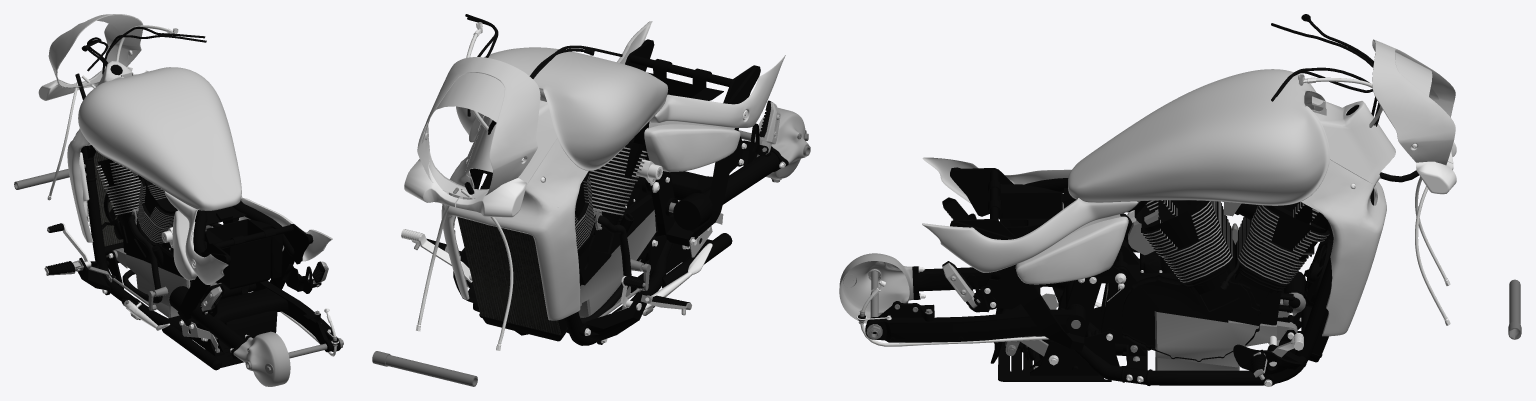
The model's file is stock_m109r.glb.
3 renders of one model, left to right at view 1: azimuth 30°, elevation 25°; view 2: azimuth 150°, elevation 25°; view 3: azimuth 270°, elevation 25°, orthographic. The views are drawn at different scales.
Parts seen in each view (by area): view 1: Tank, Frame, Engine, material.008, material.2995, material.050, material.2653, Radiator, material.012, Retopo_material.001, FrameCover_COLORMATCH, material.5147 (+8 smaller); view 2: Tank, Frame, Engine, Retopo_material.001, material.050, Radiator, material.008, material.2653, FrameCover_COLORMATCH, material.012, material.2020, material.023 (+6 smaller); view 3: Engine, Tank, Frame, Retopo_material.001, material.050, material.12456, material.2995, material.008, FrameCover_COLORMATCH, material.023, material.2653, material.012 (+6 smaller).
Part boxes in pixels (x1,y1,x2,y2): Tank: [78, 67, 241, 210]; Frame: [81, 65, 328, 370]; Engine: [96, 158, 232, 317]; material.008: [169, 286, 290, 386]; material.2995: [199, 280, 340, 351]; material.050: [48, 14, 142, 88]; material.2653: [44, 223, 168, 310]; Radiator: [74, 140, 123, 262]; material.012: [164, 191, 228, 284]; Retopo_material.001: [67, 128, 93, 242]; FrameCover_COLORMATCH: [172, 210, 284, 280]; material.5147: [225, 310, 277, 358]; Tank: [456, 47, 668, 170]; Frame: [469, 39, 780, 345]; Engine: [480, 136, 656, 335]; Retopo_material.001: [441, 115, 588, 320]; material.050: [417, 57, 540, 198]; Radiator: [457, 207, 567, 341]; material.008: [673, 108, 809, 230]; material.2653: [401, 229, 691, 344]; FrameCover_COLORMATCH: [644, 124, 740, 172]; material.012: [648, 55, 785, 129]; material.2020: [404, 159, 526, 217]; material.023: [466, 100, 556, 184]; Engine: [1101, 200, 1329, 370]; Tank: [1068, 69, 1329, 205]; Frame: [942, 105, 1359, 385]; Retopo_material.001: [1301, 160, 1386, 336]; material.050: [1372, 39, 1455, 165]; material.12456: [922, 198, 1139, 272]; material.2995: [865, 271, 1085, 342]; material.008: [839, 253, 1065, 323]; FrameCover_COLORMATCH: [1015, 202, 1128, 284]; material.023: [1311, 96, 1395, 184]; material.2653: [1233, 289, 1306, 386]; material.012: [922, 157, 1071, 203].
Bounding box in the file's own units: 0.8588 × 0.9378 × 1.82.
19 materials, 5 textured.
